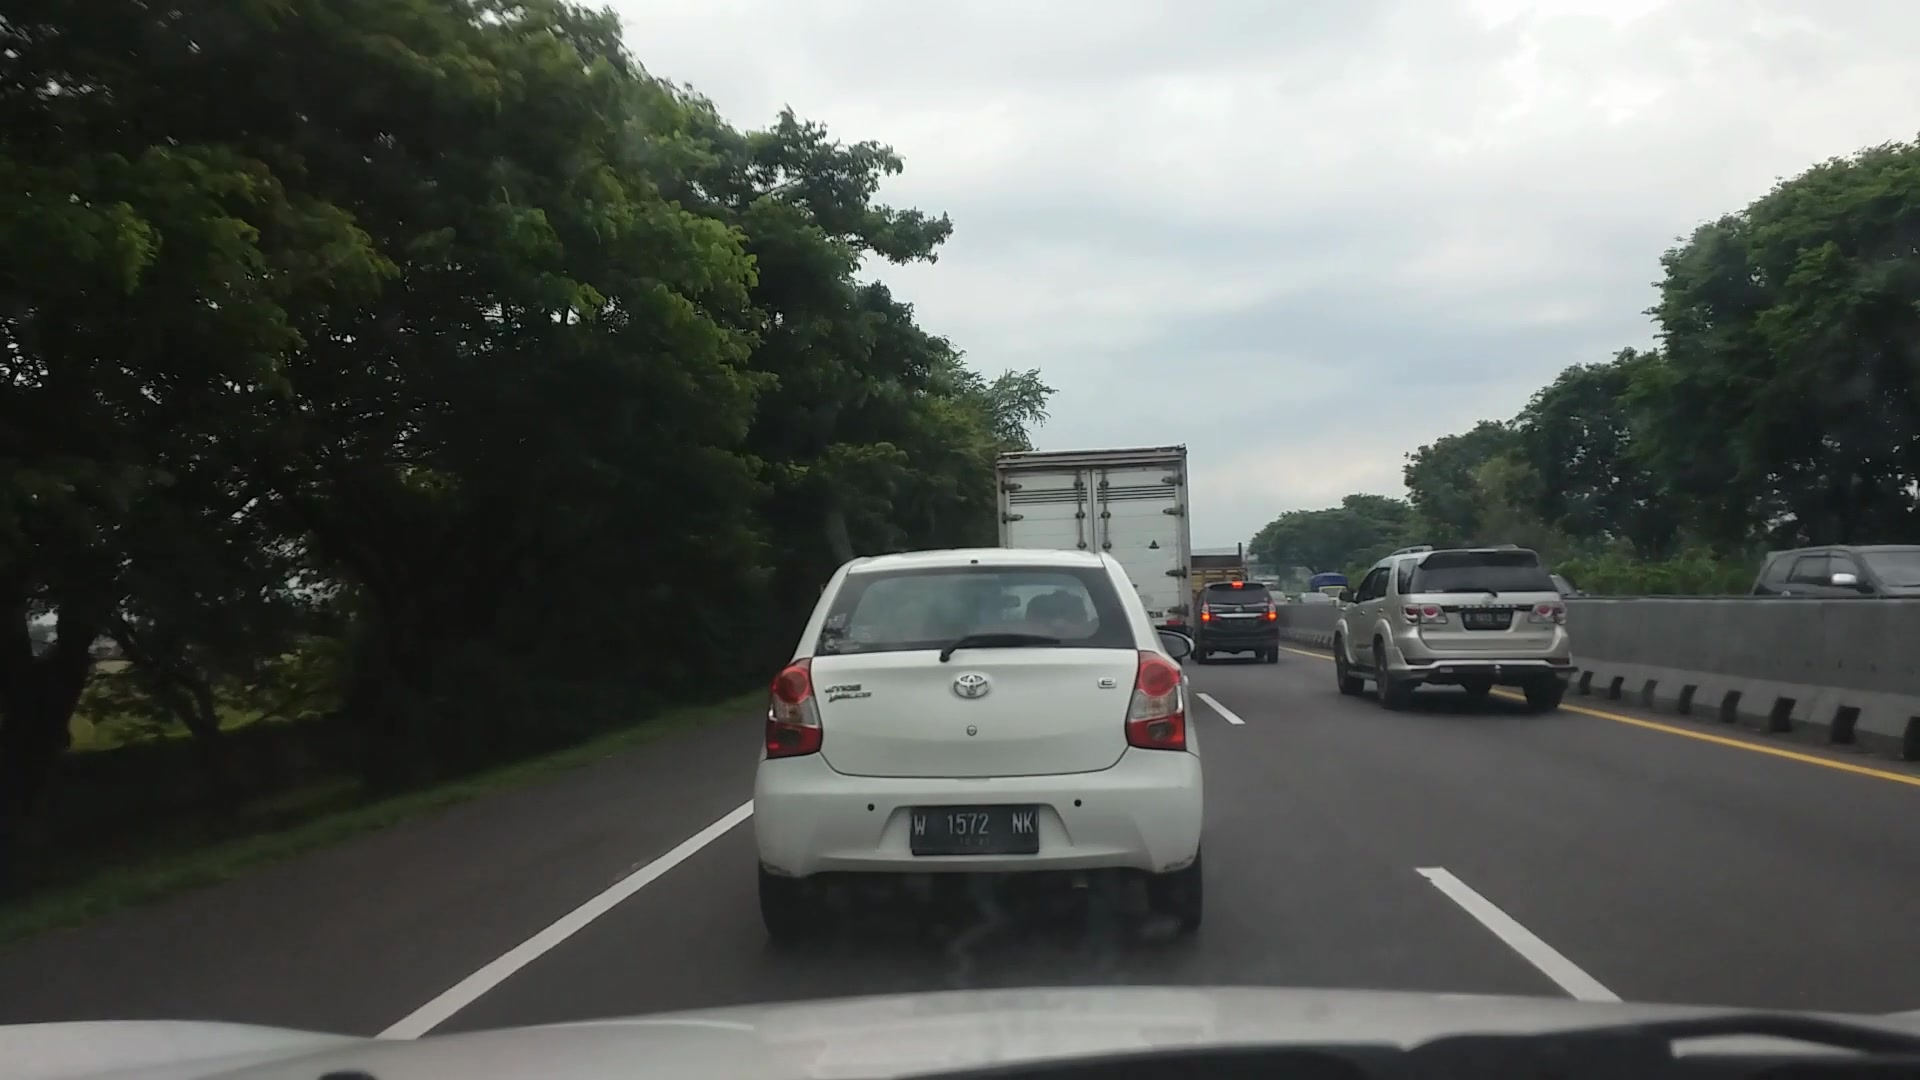plate_positive: (910, 804, 1039, 856)
